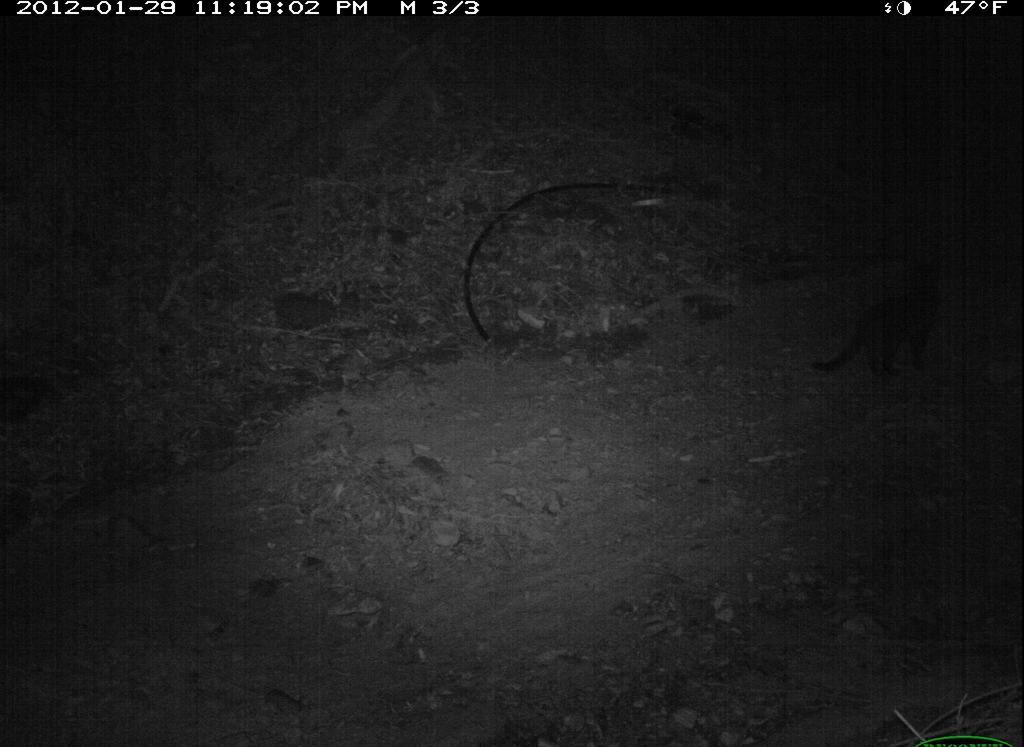cat: (803, 264, 957, 390)
